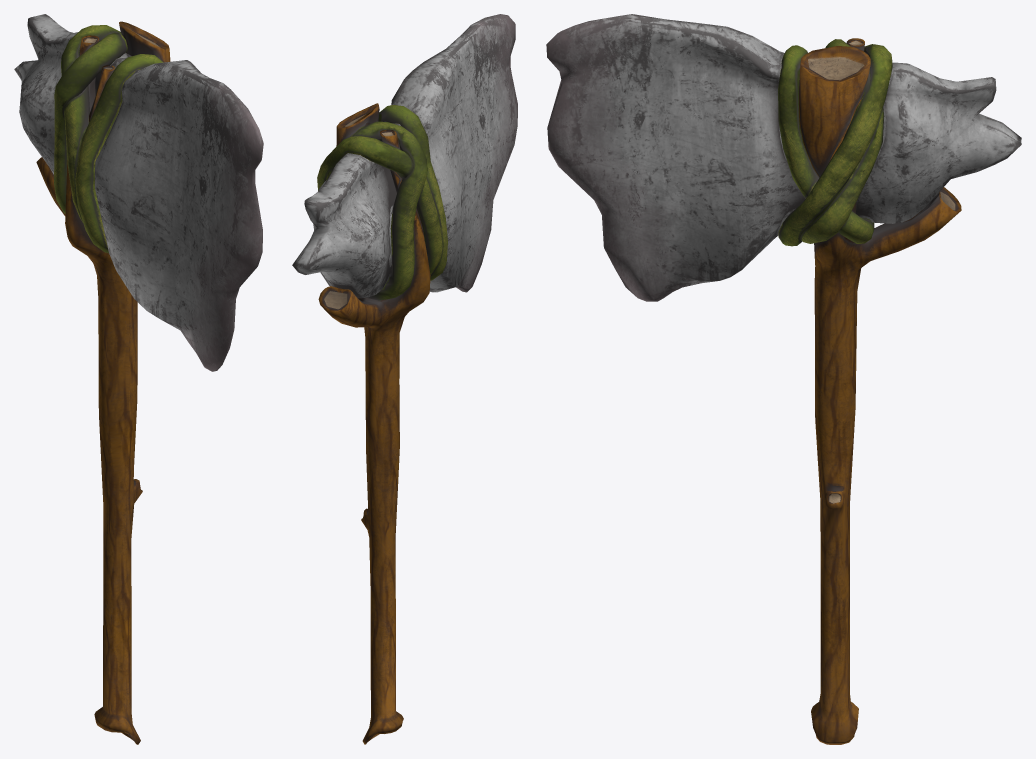
The model's file is Stoneaxe.fbx.
3 views of the same model, side by side, from view 1: azimuth 30°, elevation 25°; view 2: azimuth 150°, elevation 25°; view 3: azimuth 270°, elevation 25° (orthographic). The views are drawn at different scales.
Parts seen in each view (by area): view 1: StoneaxeL; view 2: StoneaxeL; view 3: StoneaxeL.
Part boxes in pixels (box(x1,y1,x2,y2)): StoneaxeL: box(14, 14, 263, 744); StoneaxeL: box(292, 14, 517, 744); StoneaxeL: box(546, 14, 1021, 744).
Bounding box in the file's own units: 10.1 × 54.07 × 32.23.
